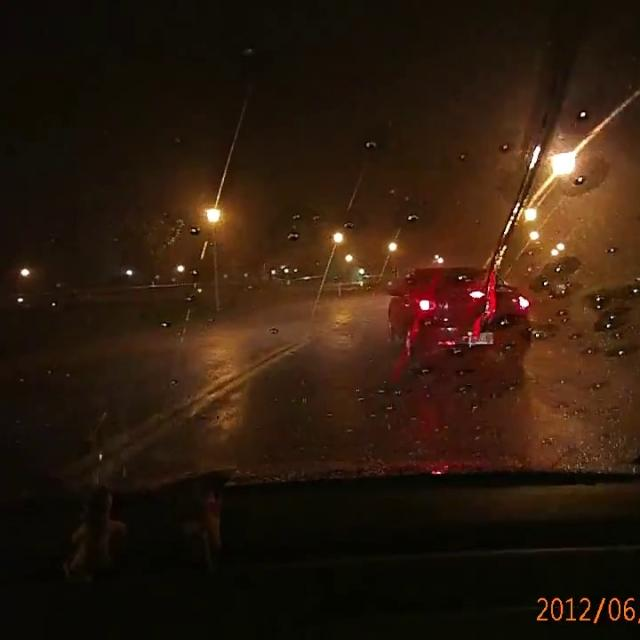Car: (385, 263, 530, 366)
